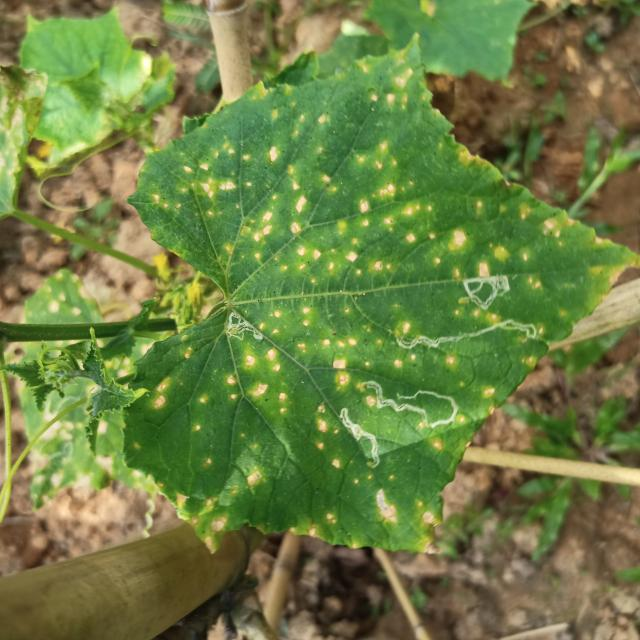disease_cucumber: (158, 68, 622, 302), (182, 342, 292, 442), (260, 308, 357, 391), (174, 460, 265, 546), (356, 472, 439, 538), (310, 402, 345, 476), (391, 351, 467, 375), (288, 510, 340, 540), (146, 370, 177, 418), (453, 306, 499, 323)
